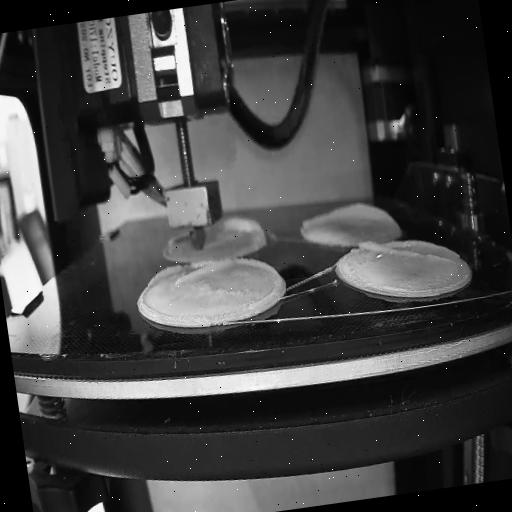over_extrusion: (357, 228, 455, 278), (300, 194, 398, 240), (143, 256, 239, 292), (240, 253, 285, 308), (222, 212, 269, 248)
